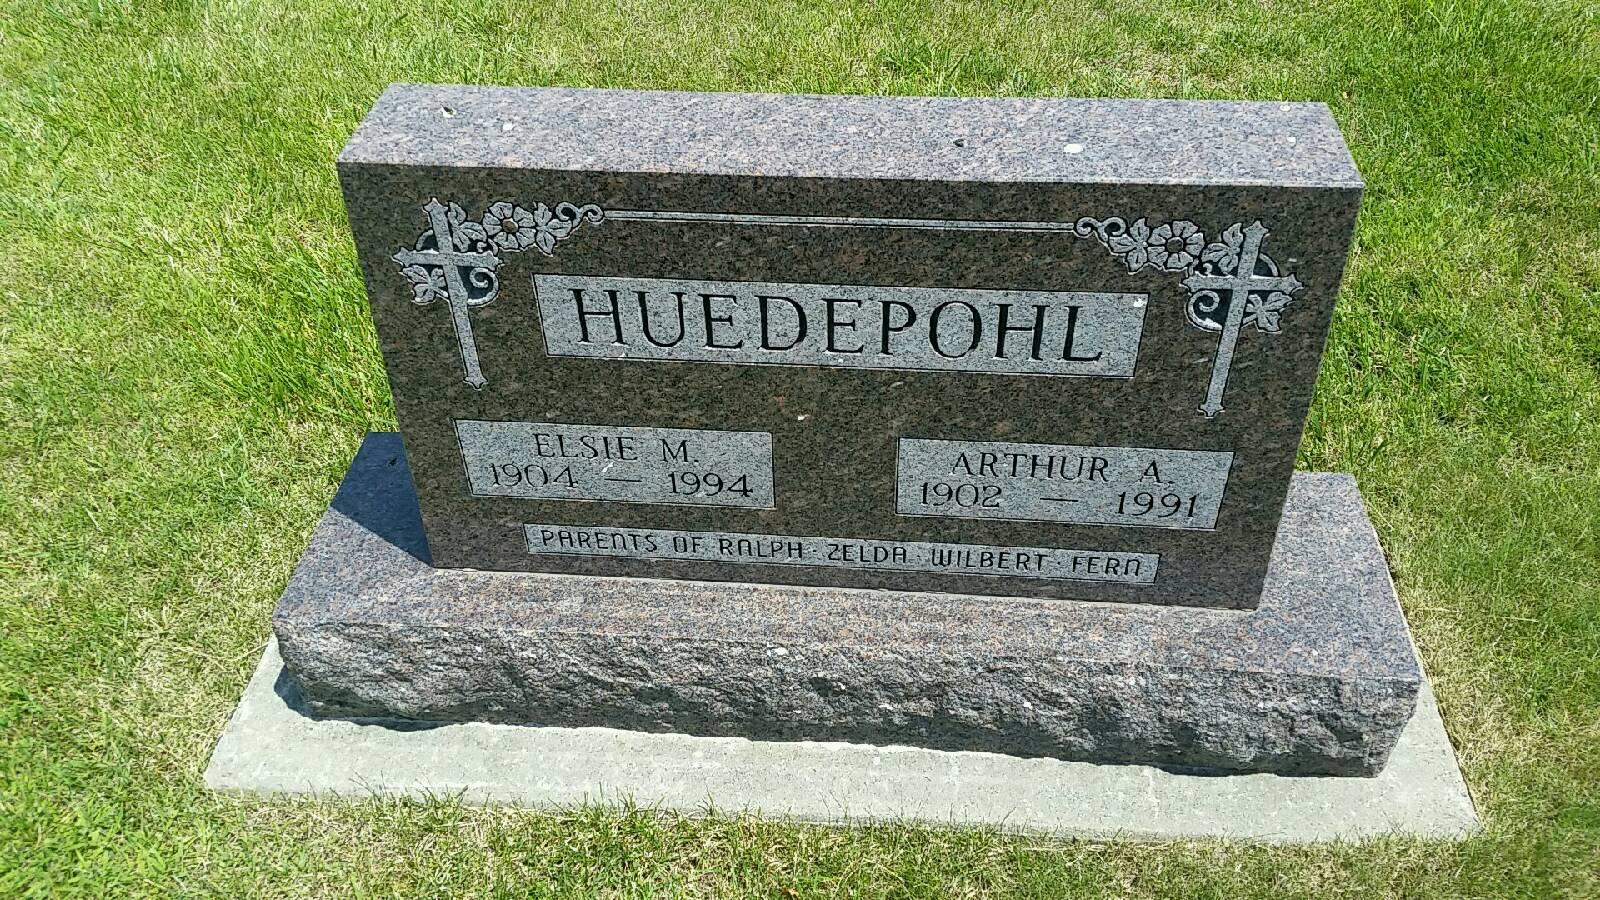upright: (219, 67, 1473, 846)
